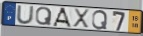7: (112, 10, 126, 32)
A: (52, 7, 73, 29)
Q: (35, 6, 54, 27), (91, 10, 109, 30)
U: (16, 5, 35, 26)
X: (72, 8, 90, 30)
